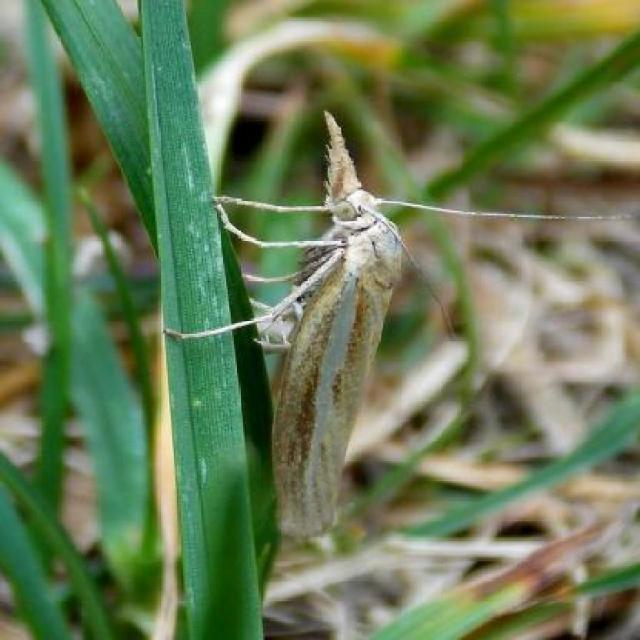stem-borer: (159, 99, 629, 536)
